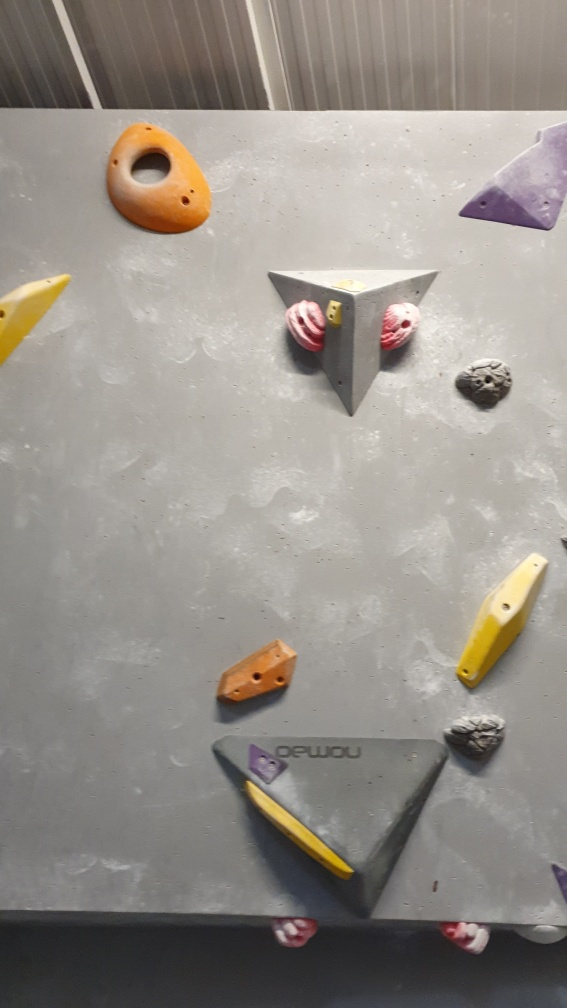Jug: (445, 712, 506, 767), (455, 355, 514, 410), (434, 915, 498, 961), (281, 295, 327, 358), (375, 295, 421, 354), (272, 915, 321, 955)
Pinch: (461, 551, 555, 694), (214, 637, 303, 709)
Pocket: (104, 121, 217, 237)
